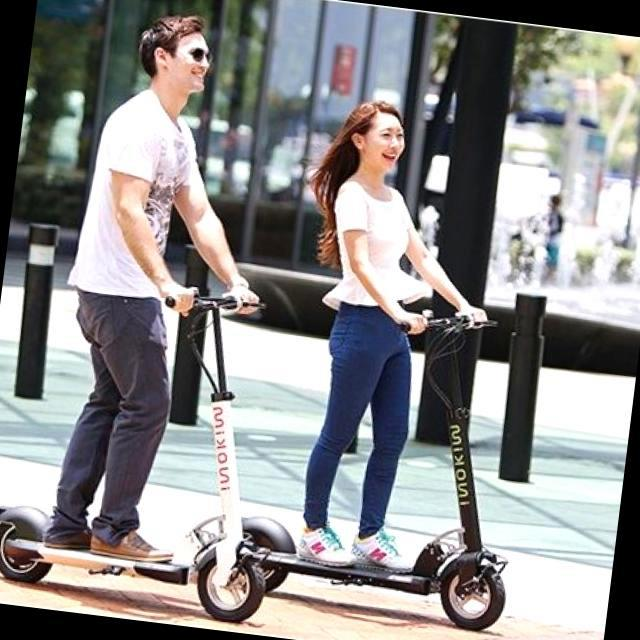bare_head: (340, 99, 457, 168), (131, 20, 224, 94)
human: (69, 18, 245, 553), (309, 82, 431, 565)
kickboard: (1, 499, 285, 631), (246, 501, 507, 637)
